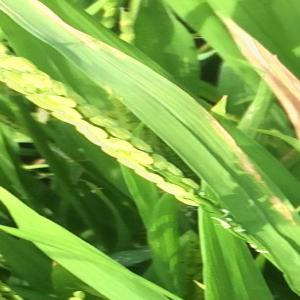Bacterial_Blight: (209, 124, 300, 279), (230, 7, 300, 122)
